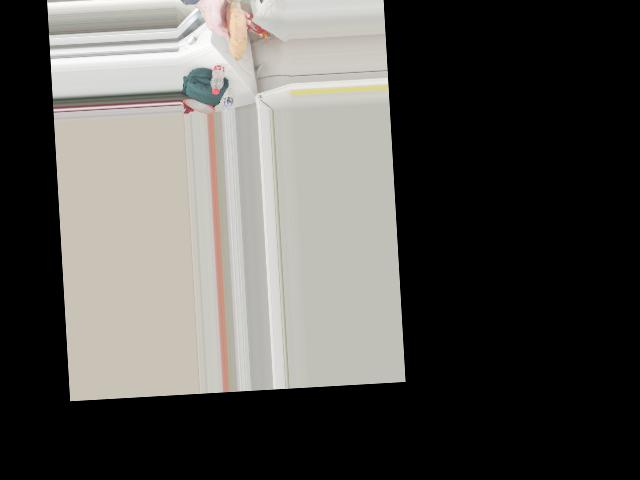sweet_potato: (221, 3, 245, 52)
